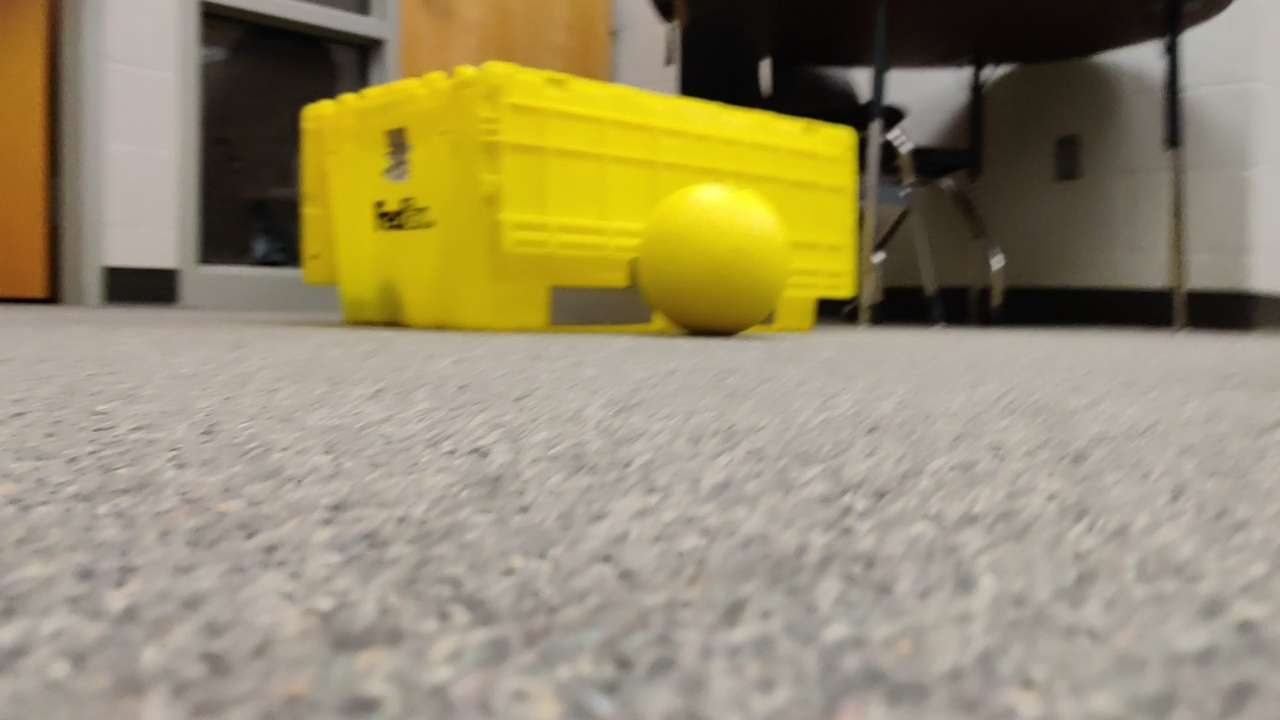Ball: (642, 184, 782, 344)
